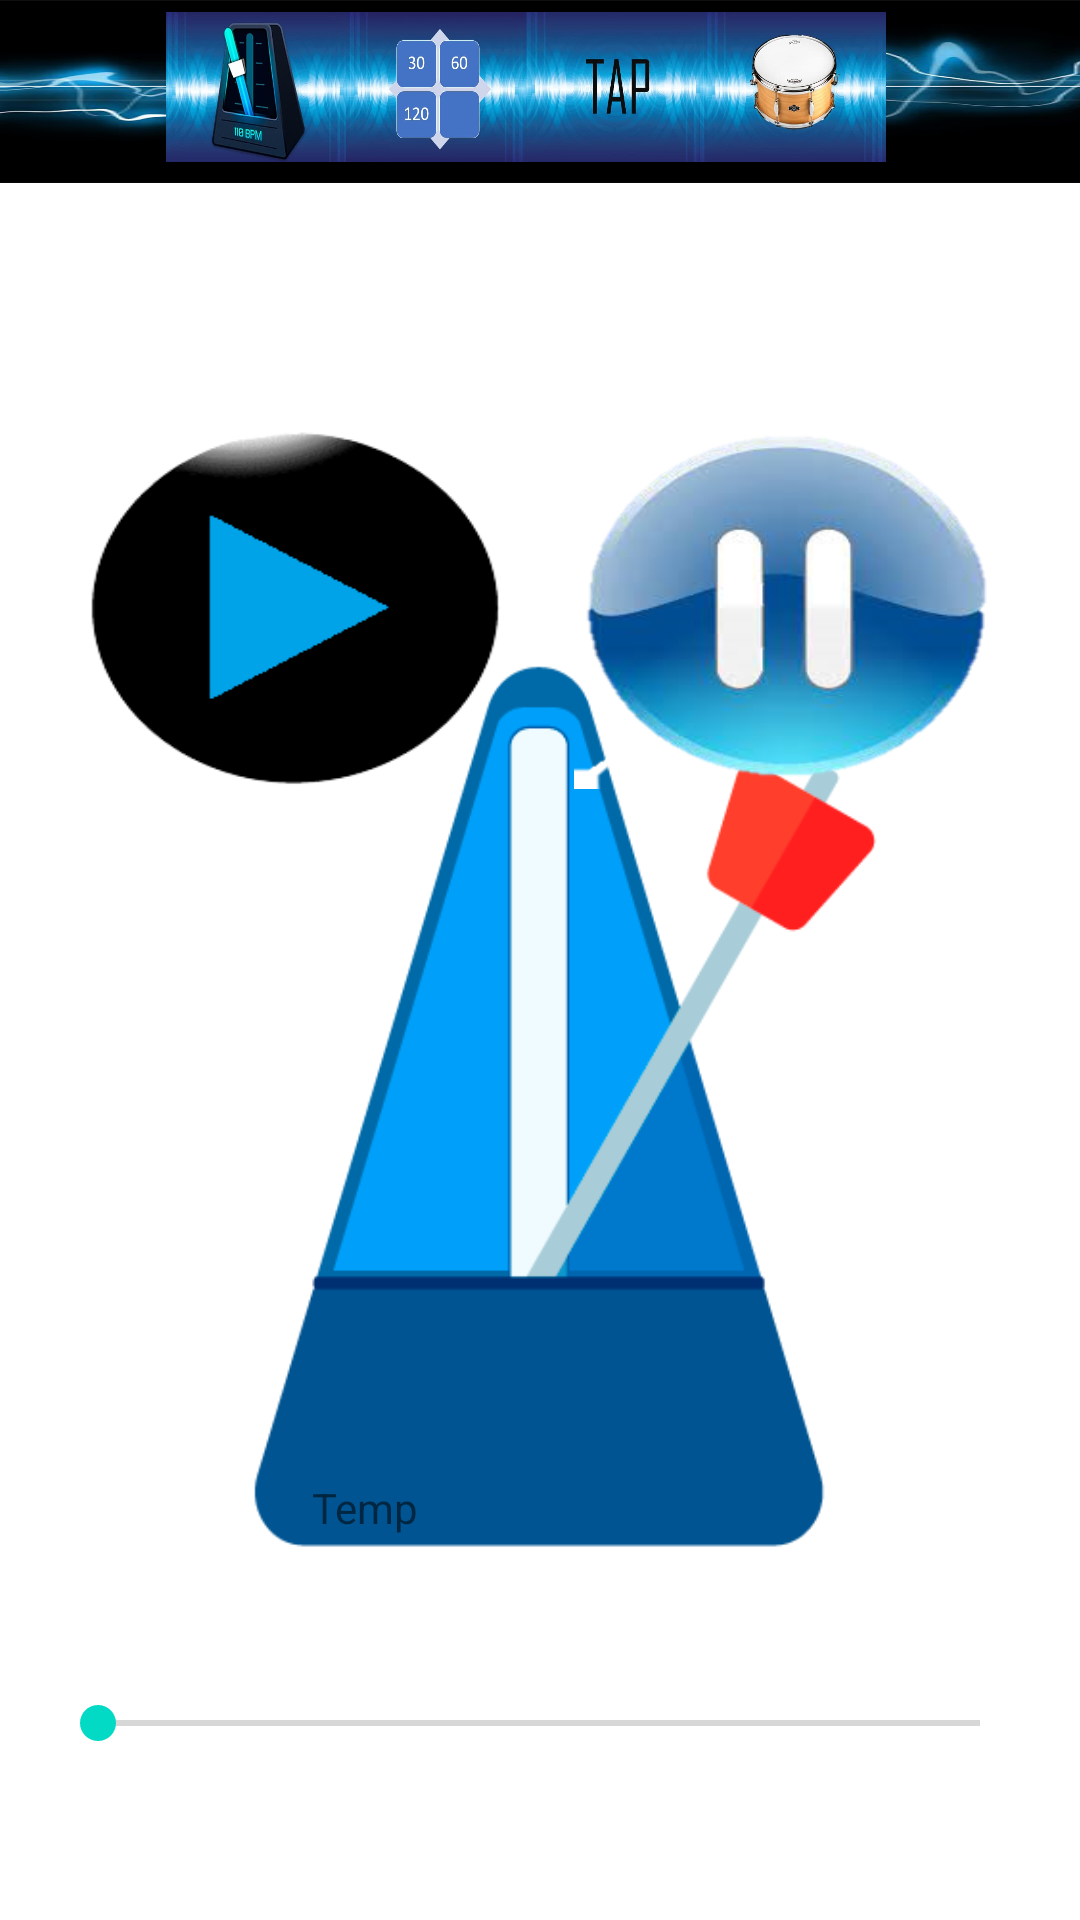

Named icons in this screenshot (1080w x 1920h) and their centers, (x,y):
bam: (796,87)
